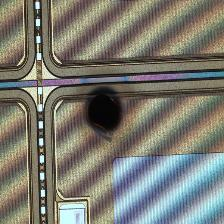PARTICLE: (76, 80, 140, 144)
